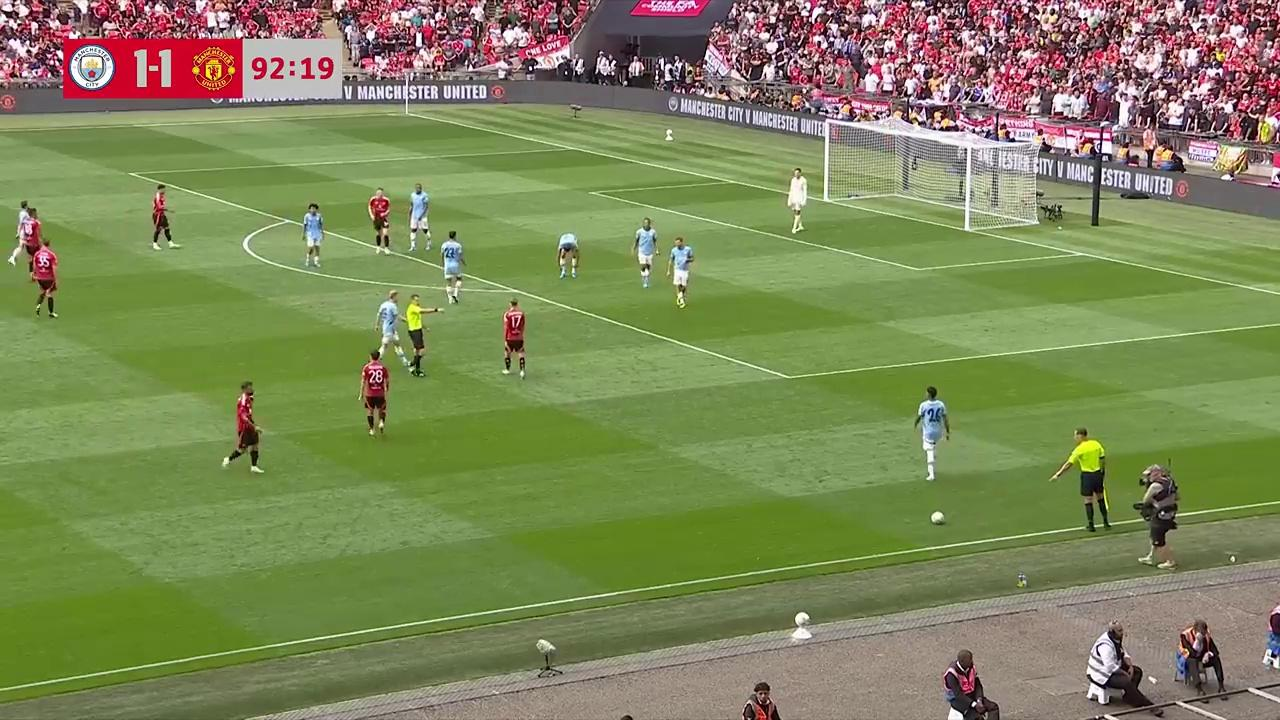ball: (929, 508, 945, 525)
player: (221, 381, 264, 473), (914, 385, 950, 481), (358, 349, 391, 438), (375, 291, 407, 363), (29, 239, 56, 317), (501, 298, 526, 379), (666, 237, 693, 309), (631, 217, 657, 288), (440, 230, 464, 305), (150, 184, 176, 250), (367, 187, 392, 254), (301, 202, 324, 271), (407, 182, 430, 251), (786, 168, 807, 235), (7, 200, 30, 260), (23, 209, 43, 268), (557, 230, 579, 279)
referee: (1069, 426, 1113, 531), (403, 294, 439, 377)
